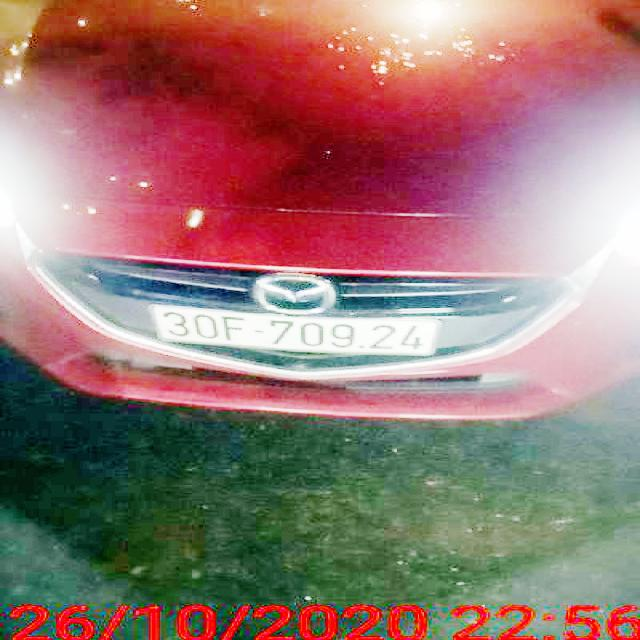license_plate: (155, 304, 437, 355)
